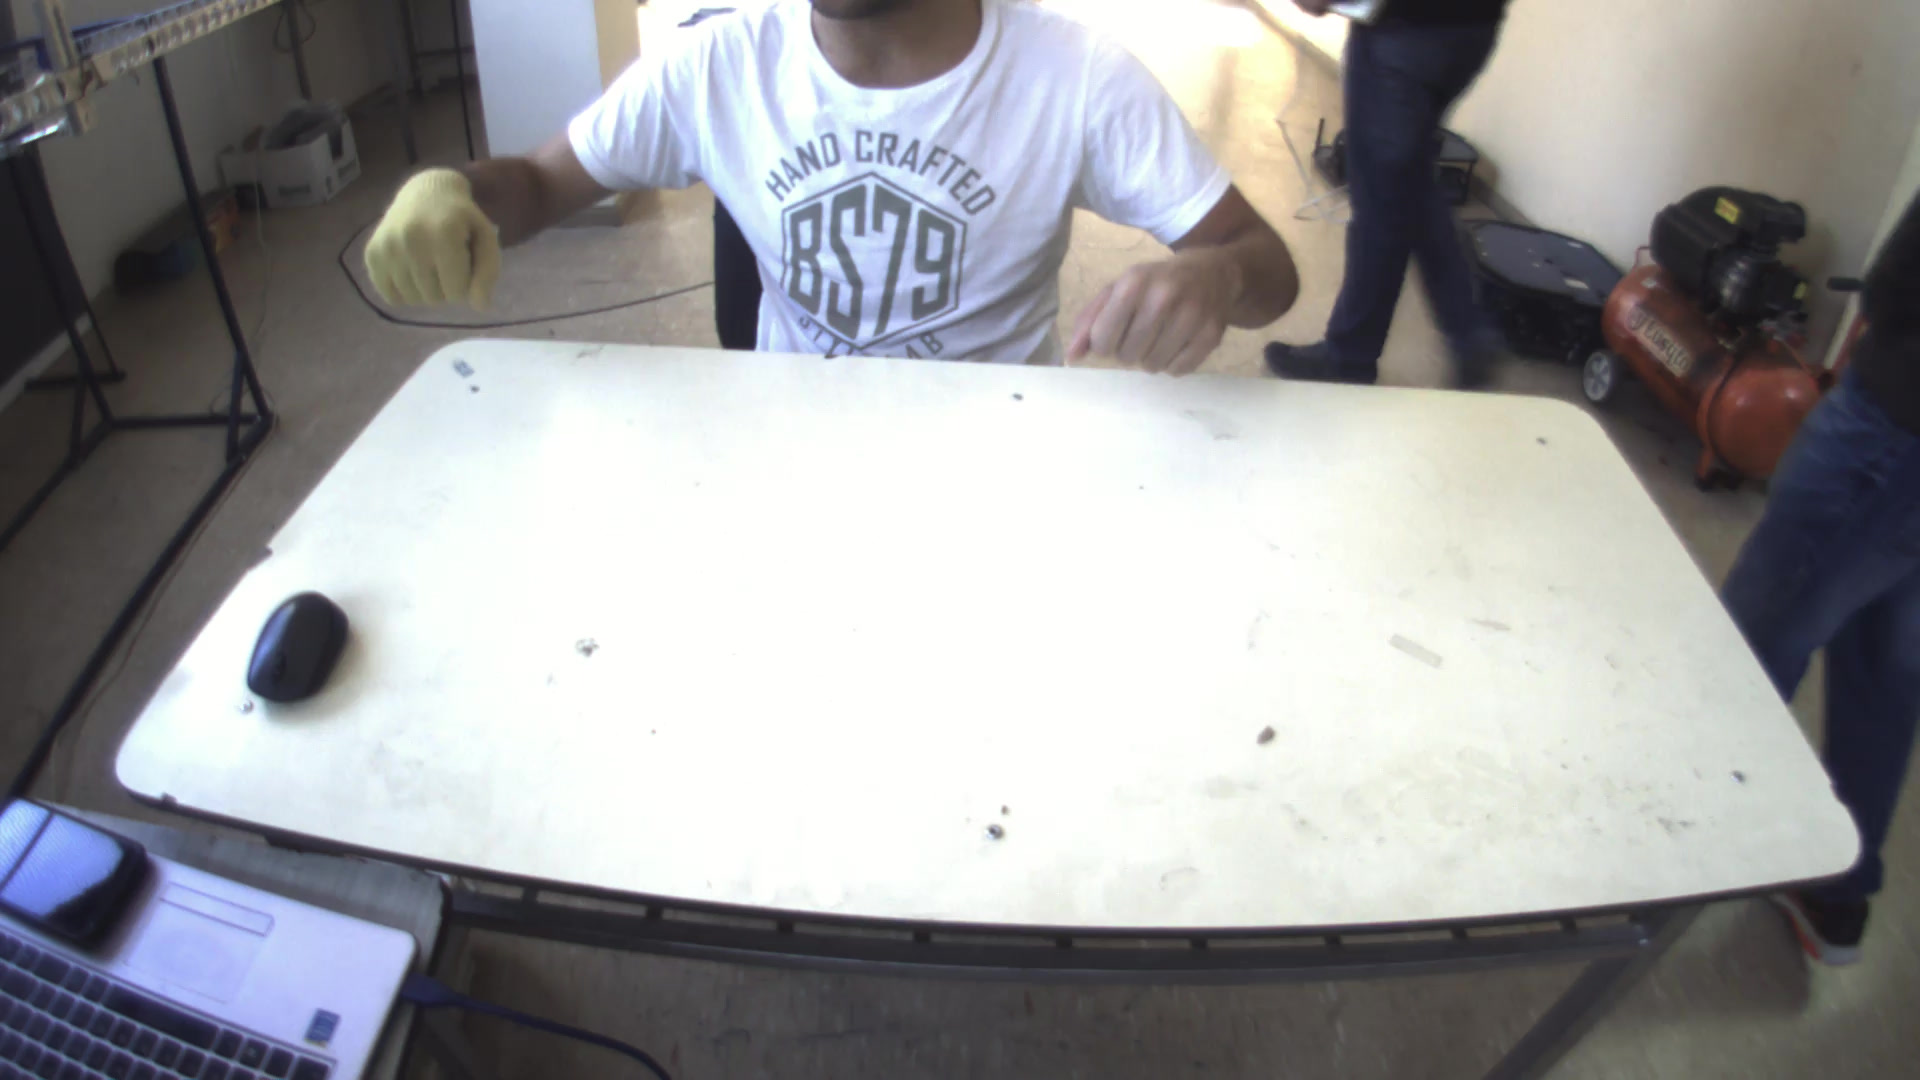hand: (1058, 235, 1247, 376), (357, 153, 506, 311)
